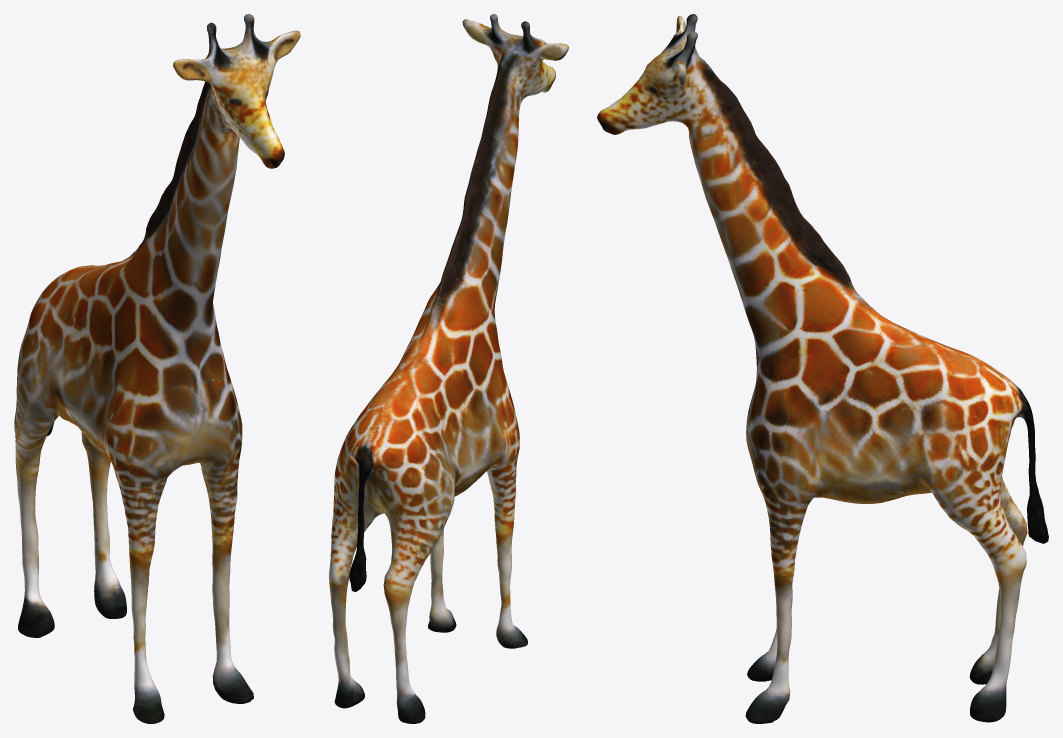
Rendered from Giraffe_Quad.obj.
The picture shows the model from 3 angles, left to right: view 1: azimuth 30°, elevation 25°; view 2: azimuth 150°, elevation 25°; view 3: azimuth 270°, elevation 25°; orthographic projection. The views are drawn at different scales.
Visible parts, largest first — view 1: Giraffe_Quad; view 2: Giraffe_Quad; view 3: Giraffe_Quad.
Part boxes in pixels (left/top/right/bottom): Giraffe_Quad: left=14, top=14, right=300, bottom=723; Giraffe_Quad: left=329, top=14, right=568, bottom=723; Giraffe_Quad: left=597, top=14, right=1048, bottom=723.
Size of the model in its own units: 1.03 by 5.38 by 3.25.
1 material, 1 textured.
